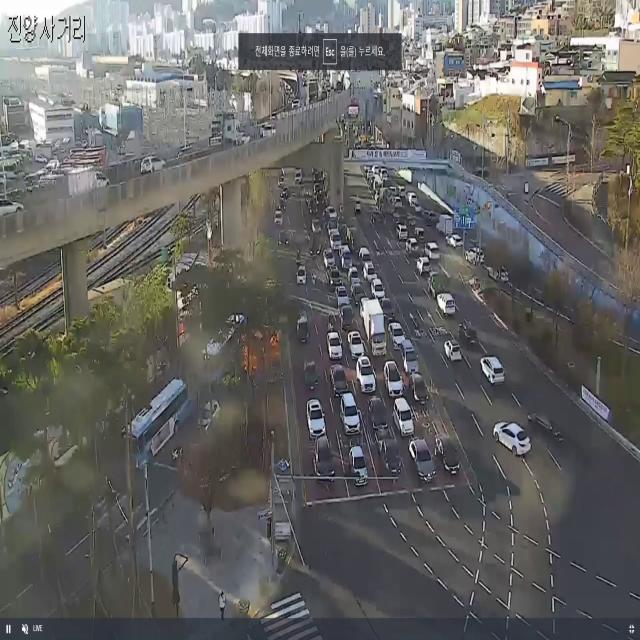bus: (328, 313, 337, 332)
car: (132, 369, 191, 457), (202, 301, 246, 389)
motorcycle: (529, 406, 572, 449), (406, 438, 435, 489), (490, 420, 532, 454), (474, 349, 508, 390), (313, 436, 336, 485), (487, 258, 517, 291), (339, 395, 362, 436), (434, 436, 461, 470), (366, 395, 388, 434), (0, 192, 26, 223), (307, 400, 328, 438), (350, 450, 368, 490), (355, 358, 375, 392), (382, 358, 402, 392), (176, 141, 200, 166), (294, 301, 310, 338), (329, 364, 348, 394), (394, 399, 411, 431), (142, 157, 166, 178), (404, 346, 422, 374), (463, 248, 491, 266), (305, 354, 319, 388), (349, 331, 365, 360), (460, 323, 479, 347), (440, 289, 455, 316), (443, 342, 462, 363), (415, 255, 433, 276), (379, 295, 396, 317), (446, 232, 464, 252), (260, 123, 279, 141), (388, 327, 408, 344), (424, 240, 441, 260), (322, 250, 340, 268), (328, 335, 342, 358), (364, 263, 379, 284), (354, 284, 366, 304), (348, 269, 361, 287), (329, 271, 342, 288), (373, 276, 385, 294), (297, 264, 307, 285), (415, 388, 430, 402), (359, 248, 372, 263), (337, 288, 349, 301)
truck: (172, 112, 244, 174), (375, 428, 405, 482), (68, 164, 112, 200), (363, 299, 386, 362), (428, 269, 448, 304), (340, 301, 354, 329)
